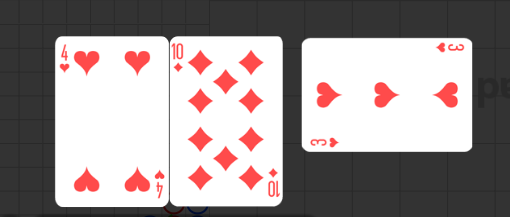10D: (267, 166, 280, 198)
3H: (433, 42, 466, 54)
4H: (58, 44, 71, 75)
